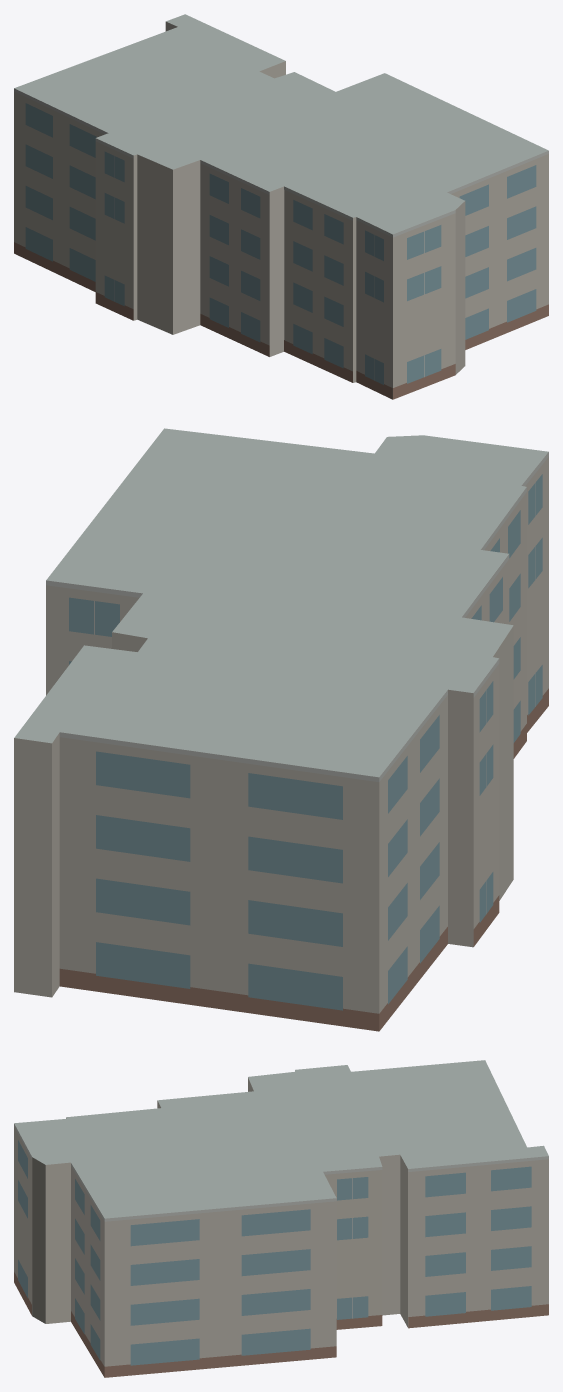
The model's file is survey-upis-32474788.glb.
3 views of the same model, one above another, from view 1: azimuth 30°, elevation 25°; view 2: azimuth 150°, elevation 25°; view 3: azimuth 270°, elevation 25° (orthographic). The views are drawn at different scales.
Visible parts, largest first — view 1: survey-upis-32474788.tmp; view 2: survey-upis-32474788.tmp; view 3: survey-upis-32474788.tmp.
Part boxes in pixels (x1,y1,x2,y2): survey-upis-32474788.tmp: [14, 14, 548, 399]; survey-upis-32474788.tmp: [14, 428, 548, 1031]; survey-upis-32474788.tmp: [14, 1060, 548, 1377].
Bounding box in the file's own units: 26.93 × 12.6 × 38.38.
